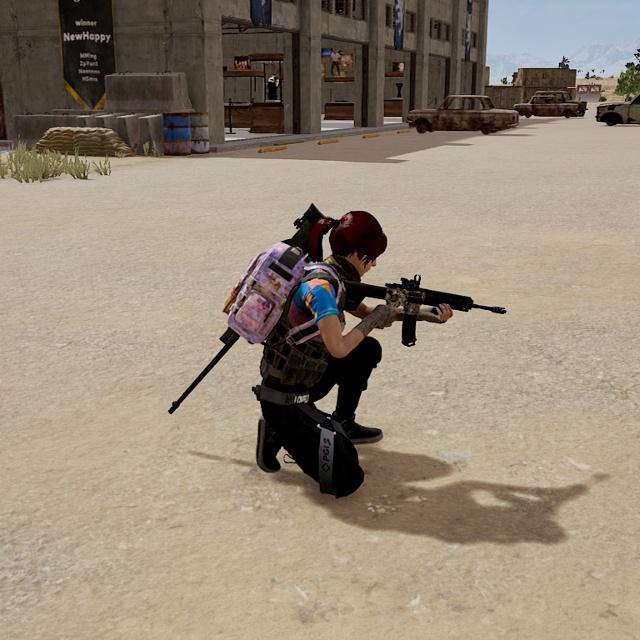head: (328, 206, 388, 285)
people: (250, 206, 390, 500)
